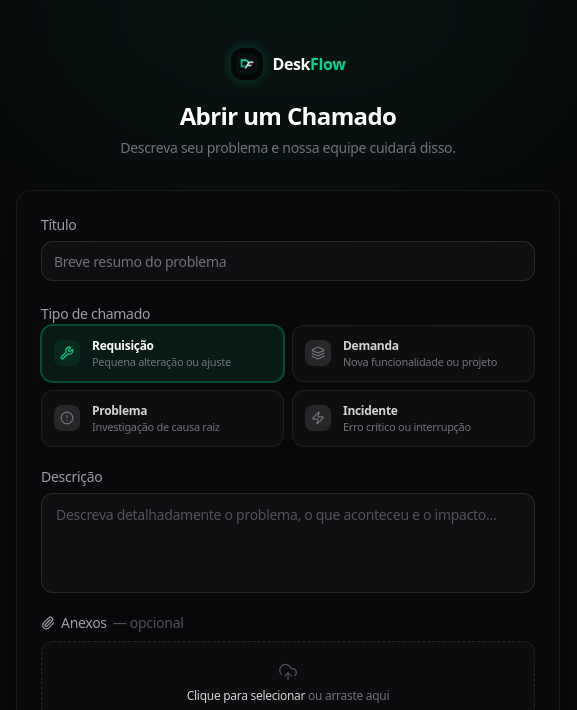
Test case: Portal › shows success state after successful submission
The width and height of the screenshot is (577, 710).
Type "Meu título" into the field with placeholder "Breve resumo do problema" at (288,261), box left=41, top=241, right=535, bottom=281
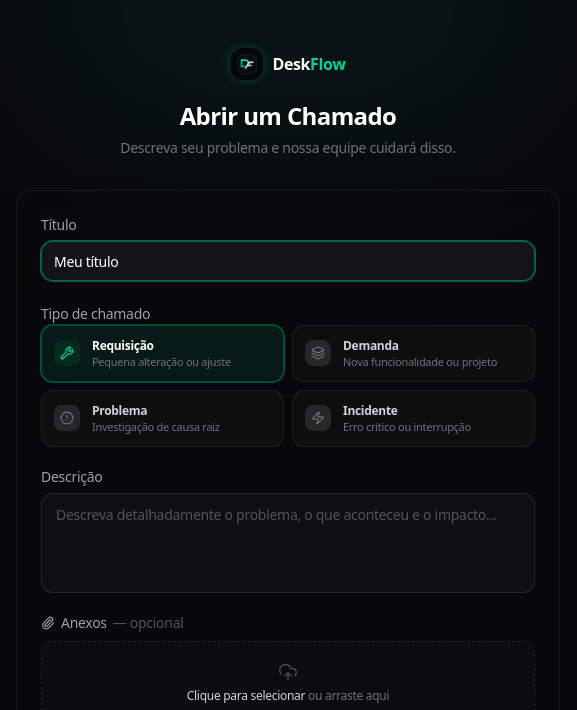
Type "Descrição do problema" into the text box with placeholder "Descreva detalhadamente" at (288,542), box left=41, top=492, right=535, bottom=592
(page scrolled)
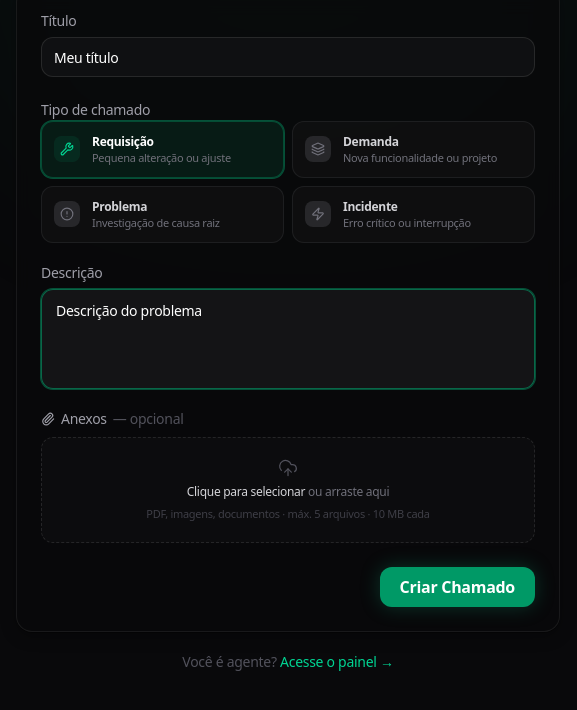
Click the button "Criar Chamado" at (457,587), box left=380, top=567, right=535, bottom=607
(page scrolled)
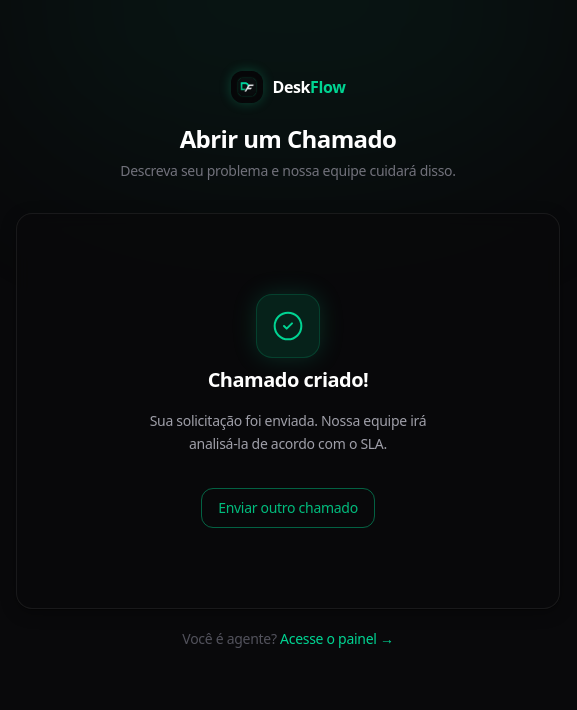
Check: the heading "Chamado criado!" is shown, box left=208, top=366, right=368, bottom=394
